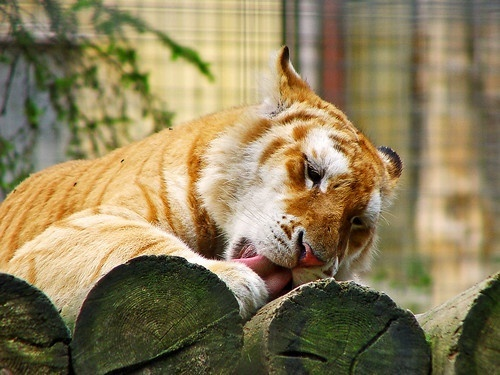tigre: (1, 44, 404, 320)
